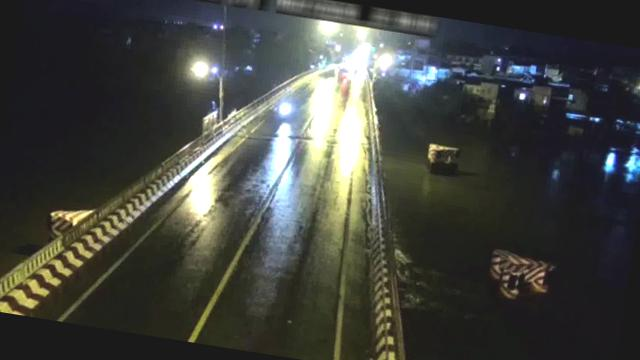Bike: (273, 99, 296, 122)
